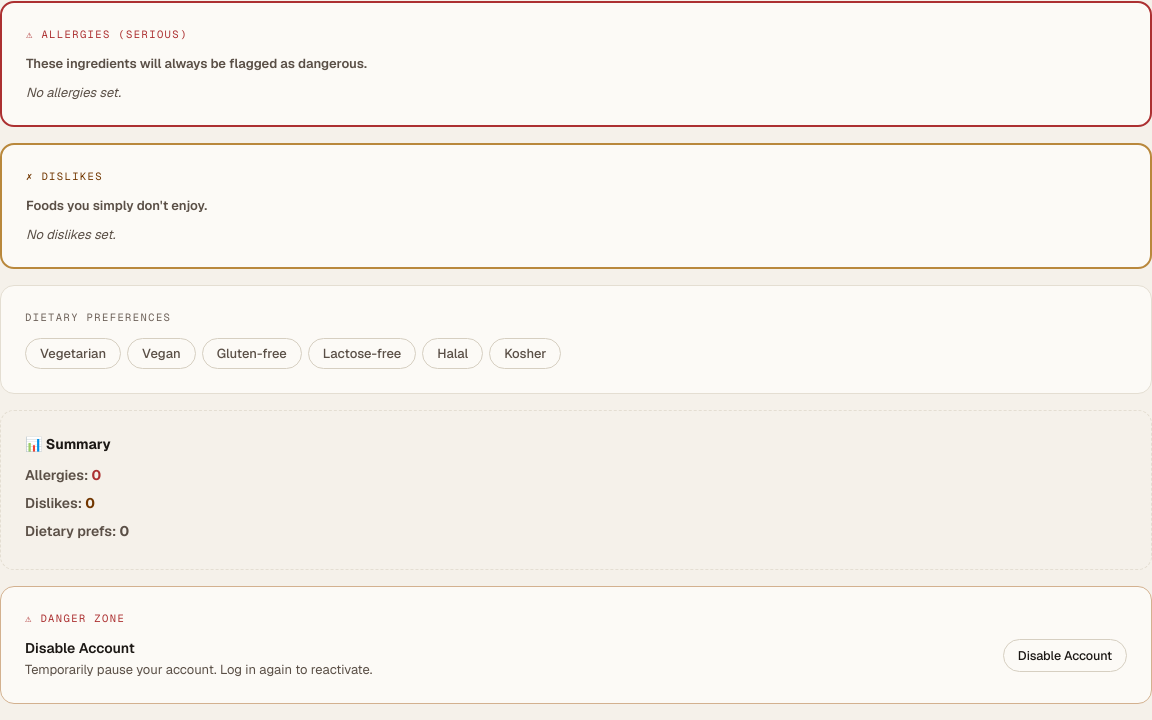
ProfileScreen – disable account confirmation modal › opens confirmation modal when disable button is clicked
(page scrolled)
Click the button "Disable Account" at (1065, 656), box left=1003, top=639, right=1127, bottom=672
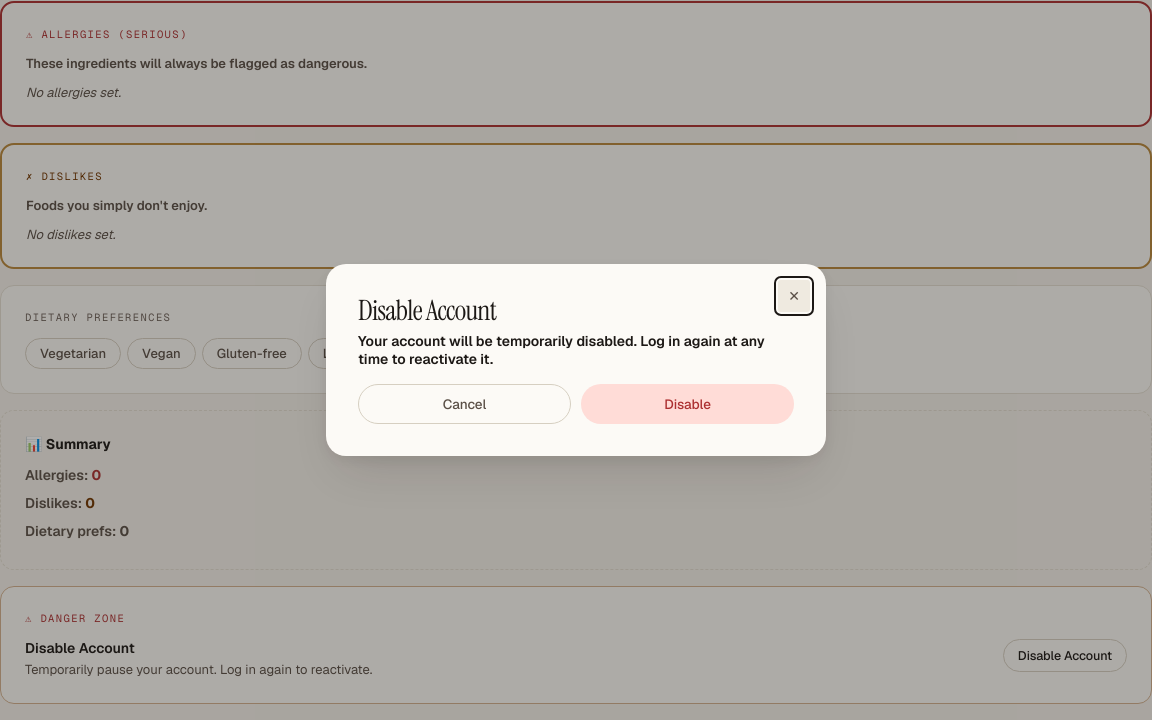
Expected: the button "Disable" is shown, left=581, top=384, right=794, bottom=424
